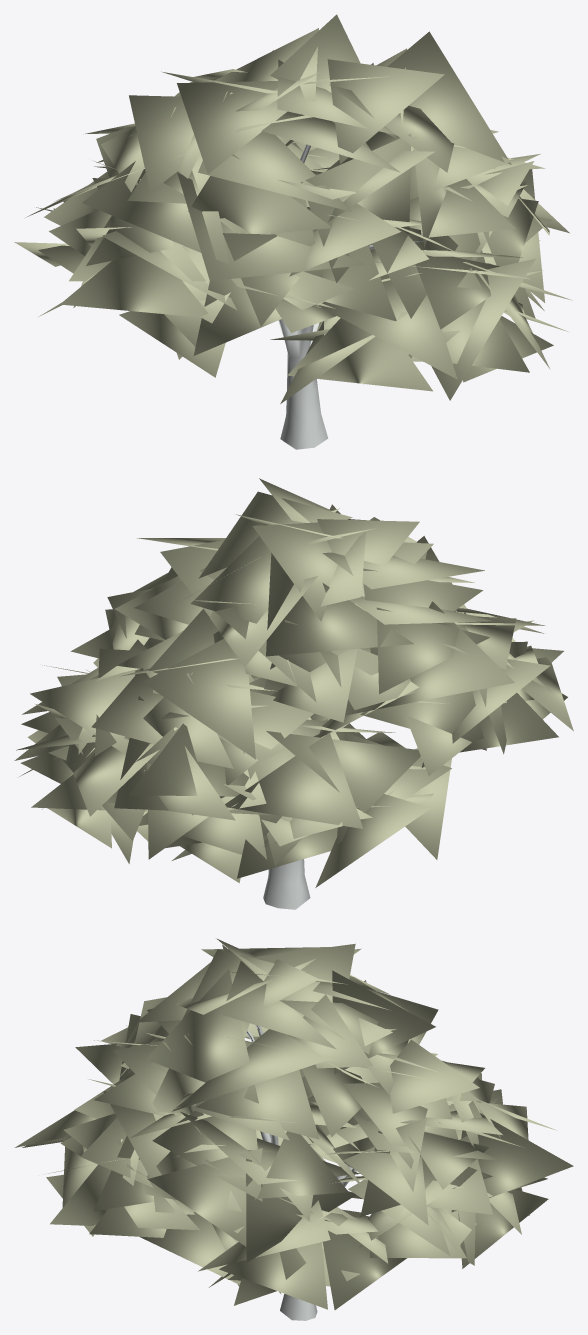
The picture shows the model from 3 angles, top to bottom: view 1: azimuth 30°, elevation 25°; view 2: azimuth 150°, elevation 25°; view 3: azimuth 270°, elevation 25°; orthographic projection. The views are drawn at different scales.
Visible parts, largest first — view 1: G:\FFXIV-MapTools\exports\k5f1\bg\ex4\03_kld_k5\fld\k5f1\bgp (×2); view 2: G:\FFXIV-MapTools\exports\k5f1\bg\ex4\03_kld_k5\fld\k5f1\bgp (×2); view 3: G:\FFXIV-MapTools\exports\k5f1\bg\ex4\03_kld_k5\fld\k5f1\bgp (×2).
Part boxes in pixels (x1=…): G:\FFXIV-MapTools\exports\k5f1\bg\ex4\03_kld_k5\fld\k5f1\bgp (×2): x1=14, y1=14, x2=572, y2=449; G:\FFXIV-MapTools\exports\k5f1\bg\ex4\03_kld_k5\fld\k5f1\bgp (×2): x1=14, y1=478, x2=573, y2=909; G:\FFXIV-MapTools\exports\k5f1\bg\ex4\03_kld_k5\fld\k5f1\bgp (×2): x1=14, y1=938, x2=573, y2=1320.
Size of the model in its own units: 33.75 by 24.85 by 35.86.
